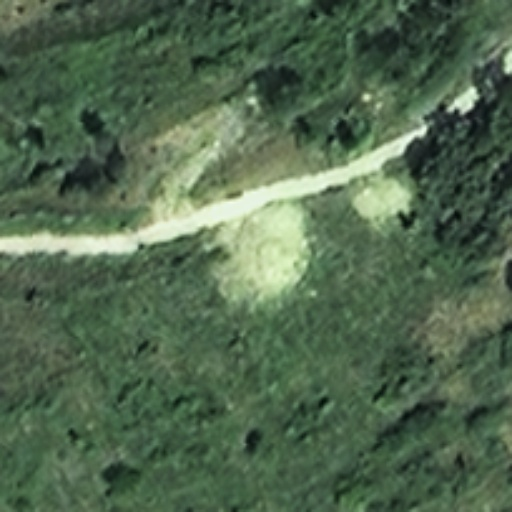landslide: (210, 200, 315, 303), (350, 169, 419, 223)
